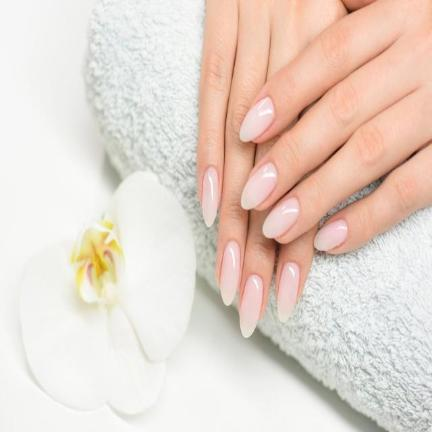Nail: (240, 162, 278, 210), (239, 96, 275, 142), (262, 197, 300, 239), (240, 273, 263, 338), (277, 262, 300, 323), (221, 240, 241, 307), (313, 219, 347, 251), (202, 167, 218, 228)
